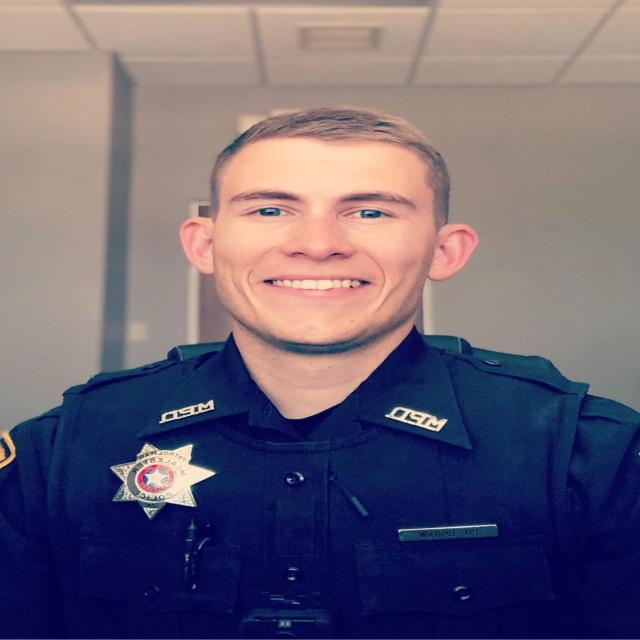police: (3, 88, 640, 640)
